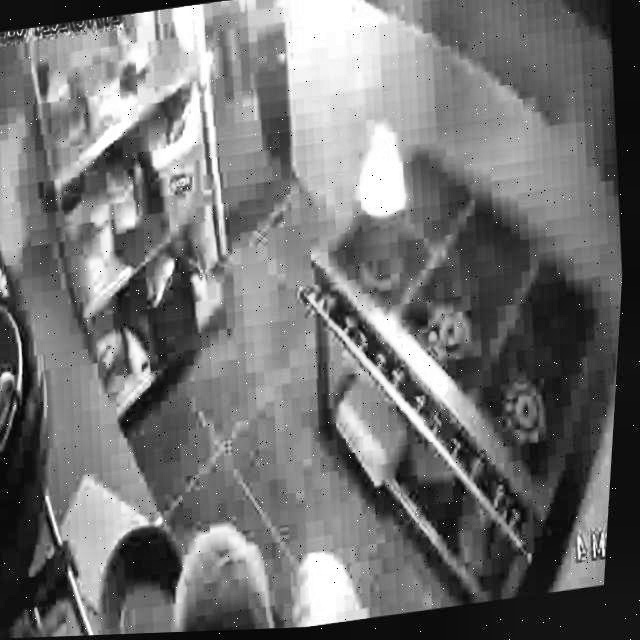Fire: (351, 120, 418, 228)
